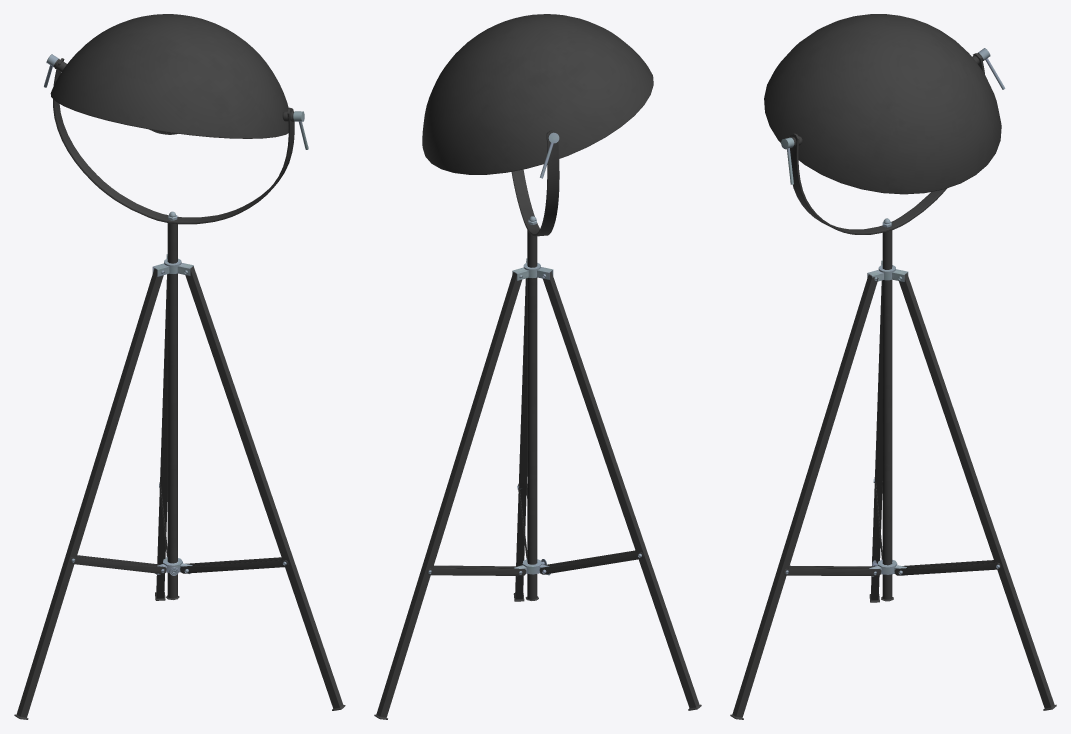
Rendered from mario_floor_lamp.glb.
The picture shows the model from 3 angles, left to right: view 1: azimuth 30°, elevation 25°; view 2: azimuth 150°, elevation 25°; view 3: azimuth 270°, elevation 25°; orthographic projection.
Visible parts, largest first — view 1: g (×2); view 2: g (×2); view 3: g (×2).
Part boxes in pixels (bbox=[...]): g (×2): bbox=[14, 14, 345, 719]; g (×2): bbox=[374, 14, 701, 719]; g (×2): bbox=[730, 14, 1056, 719].
Size of what is drawn, in the model's own units: 0.8338 by 2 by 0.9159.
Materials: 5 (5 with a texture image).
